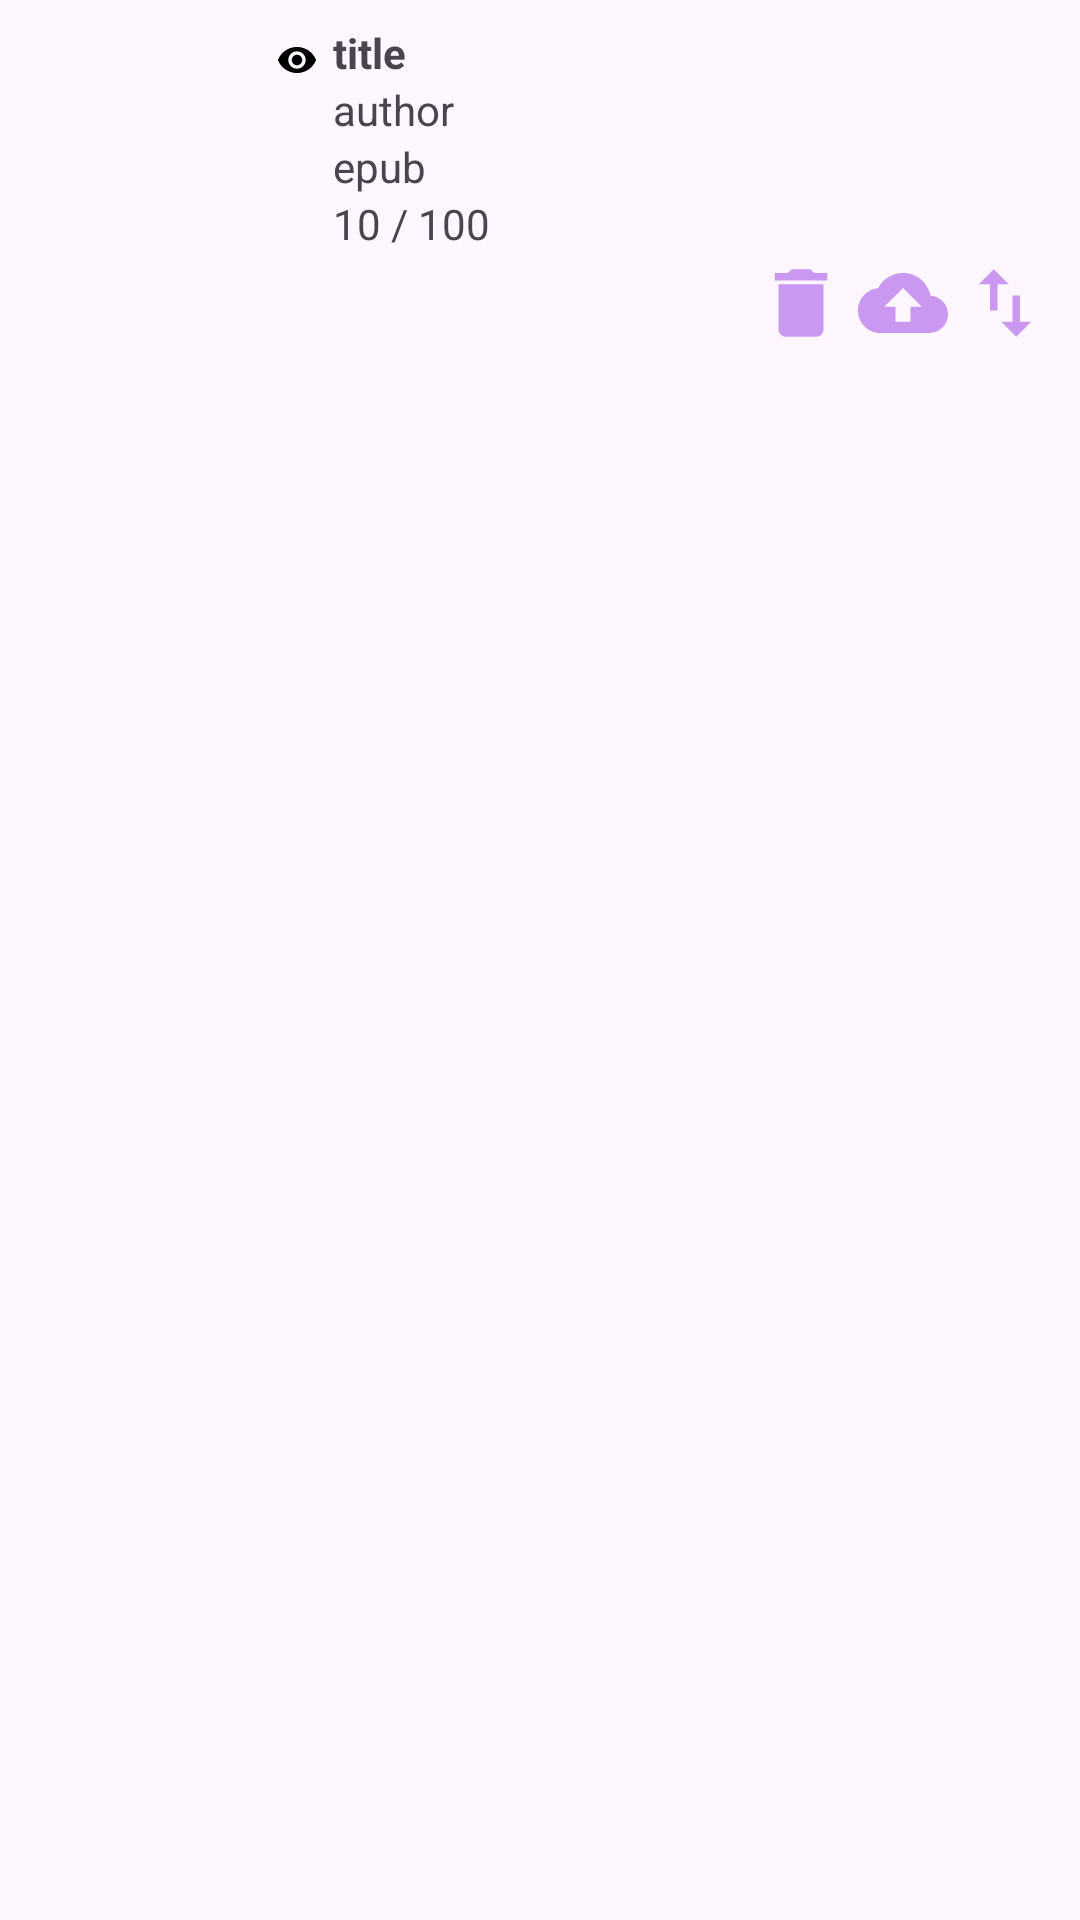

Where to tap for icons on this 1080x1920 app screen, as point (x, y):
cloud upload: point (903, 303)
delete: point (801, 303)
eye: point (297, 60)
import export: point (1005, 303)
